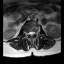CCS_normal: (30, 29, 32, 38)
LFS_normal: (35, 29, 37, 36)
LLS_normal: (32, 29, 35, 36)
RFS_normal: (26, 29, 28, 37)
RLS_normal: (28, 29, 30, 36)
